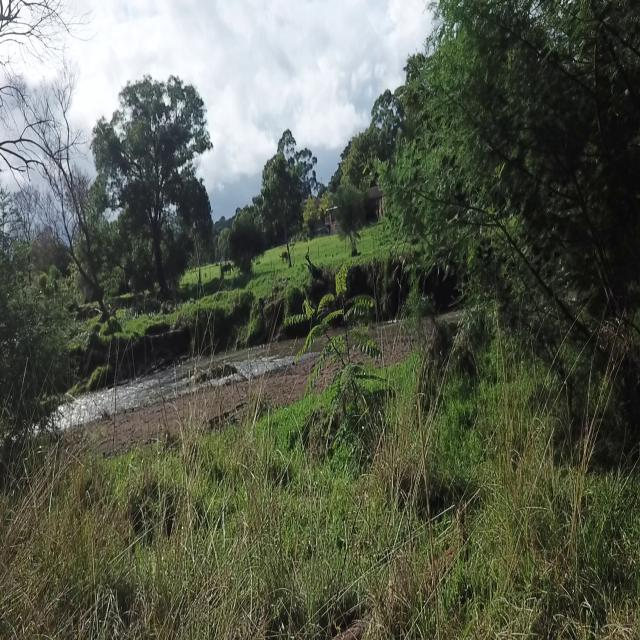Mysore-Thorn-Weed: (283, 264, 394, 460)
